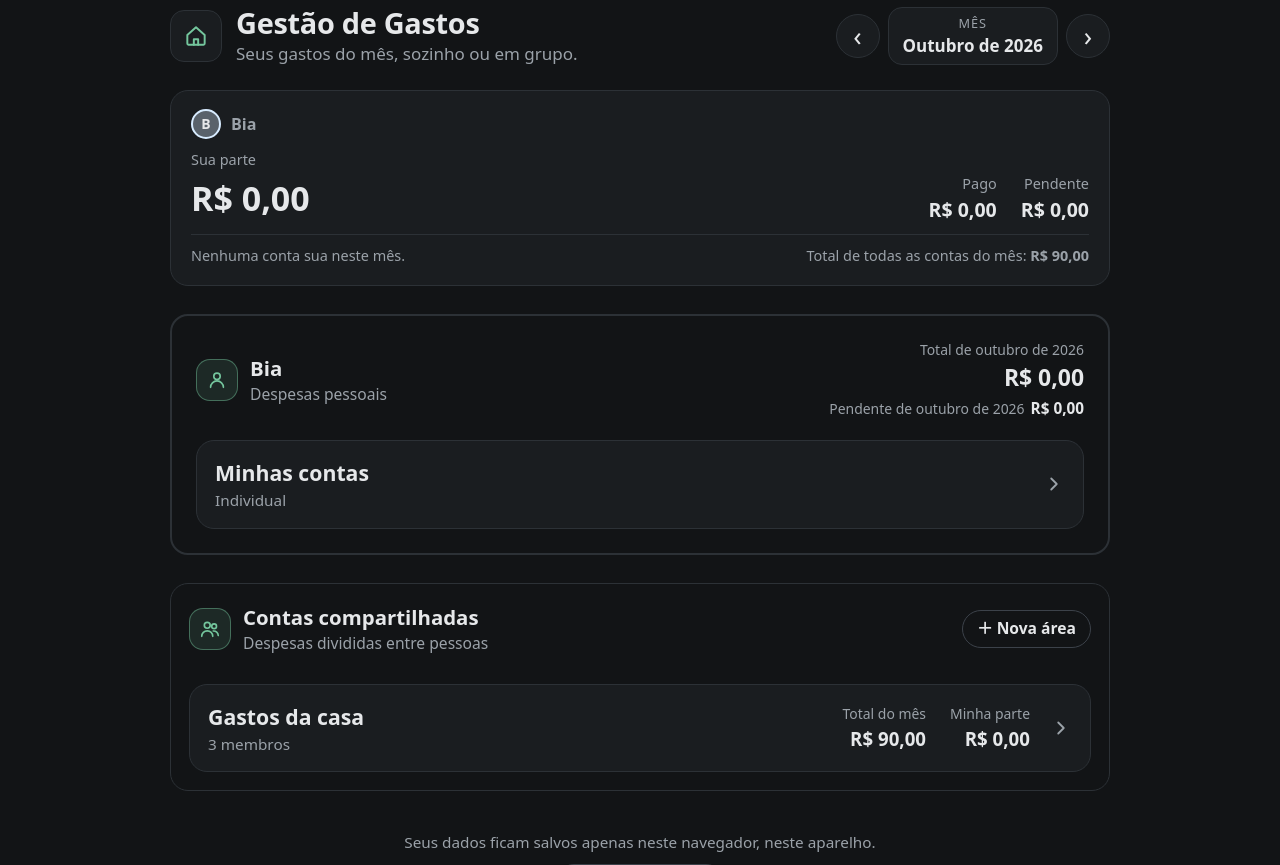
Test: M6: base da nova versão em "esta e as seguintes" › bloco de base: só em "esta e as seguintes", com a marca de editada individualmente
Click the button "Minhas contas Individual". click: click(292, 472)
box: [197,441,1083,528]
(page scrolled)
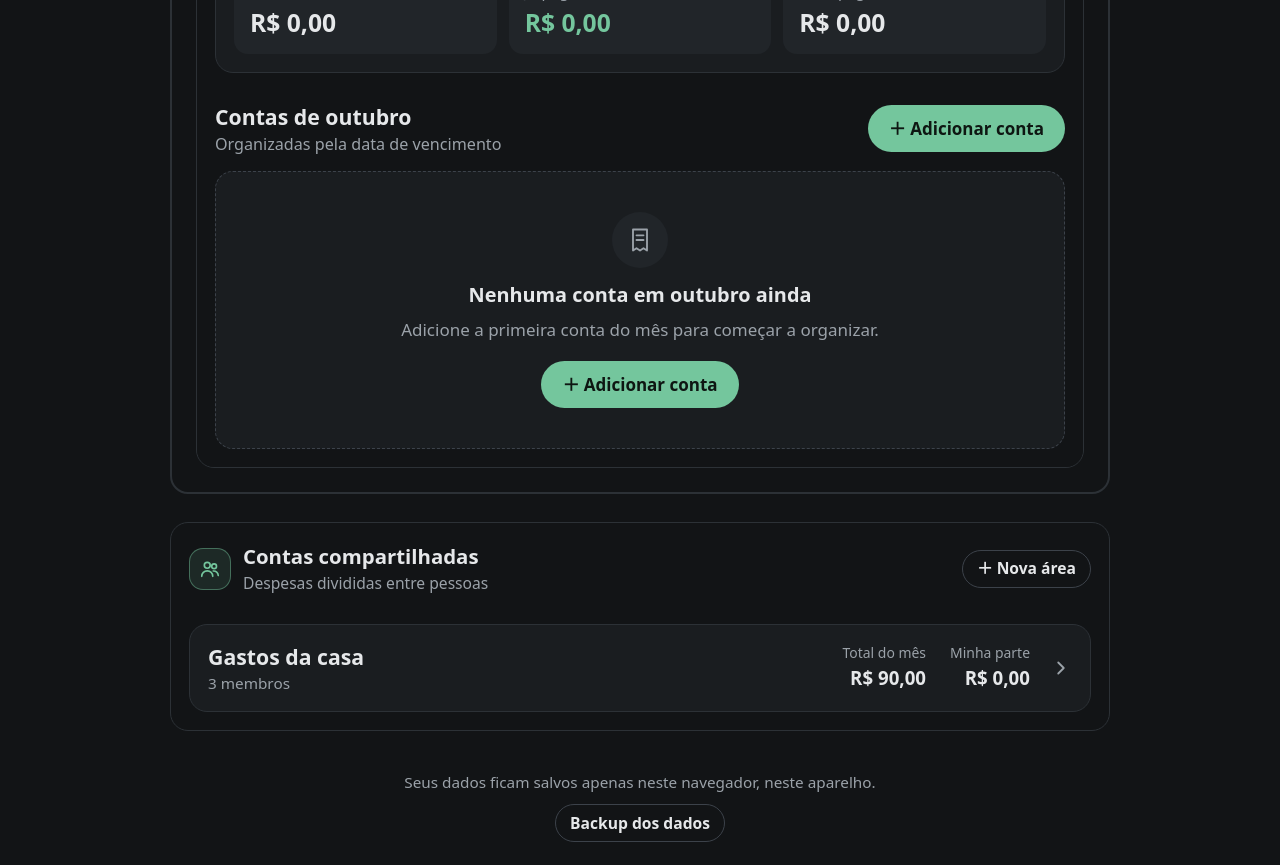
Click the button that starts with "Gastos da casa". click: click(286, 656)
box: [190,624,1090,711]
(page scrolled)
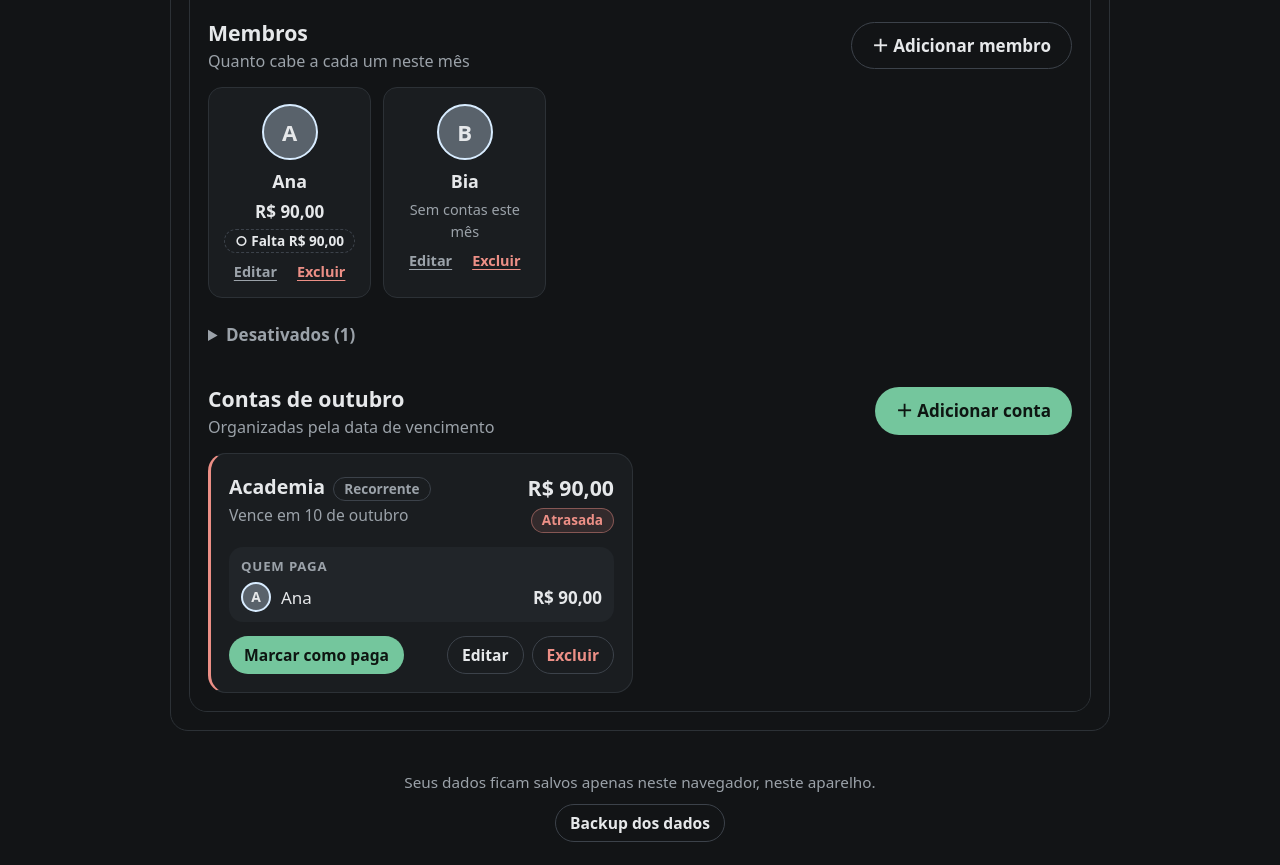
Click the button with aria-label "Editar a conta Academia". click: click(485, 655)
box: [447,636,524,674]
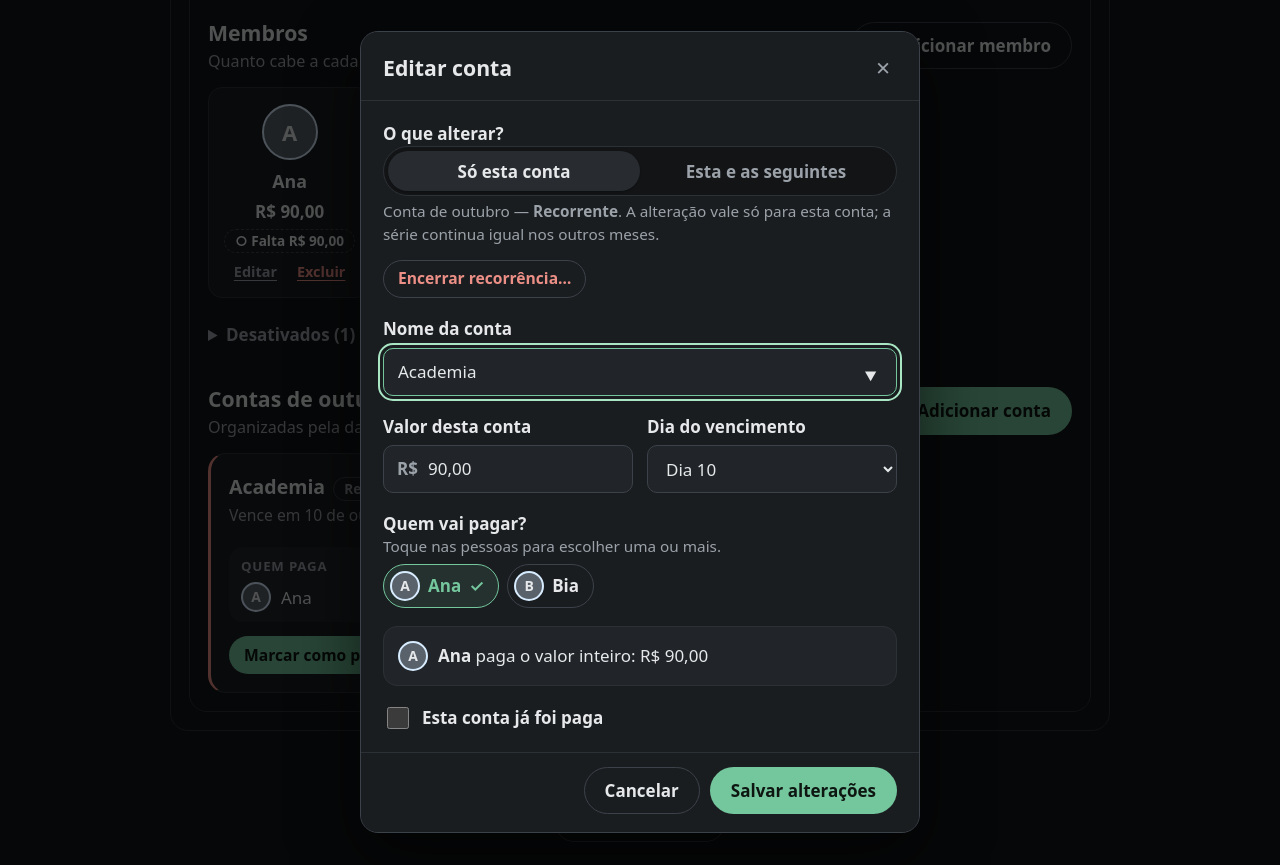
Click the button "Esta e as seguintes". click: click(766, 171)
box: [640,151,892,191]
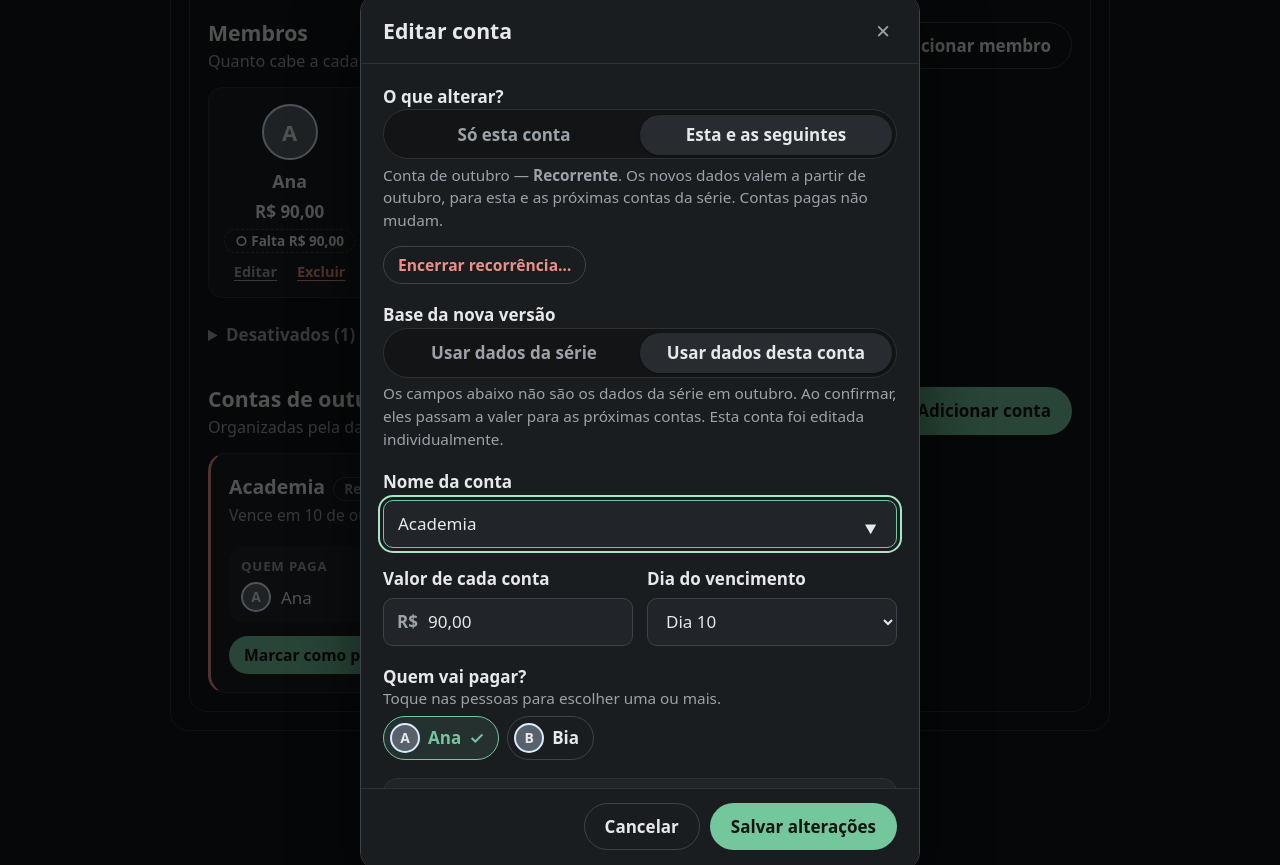
expect the element "Base da nova versão" is shown: met, box [383,302,897,451]
expect the text "Os campos abaixo não são os dados da série em outubro" is shown: met, box [383,383,896,426]
expect the text "Esta conta foi editada individualmente" is shown: met, box [383,406,864,449]
